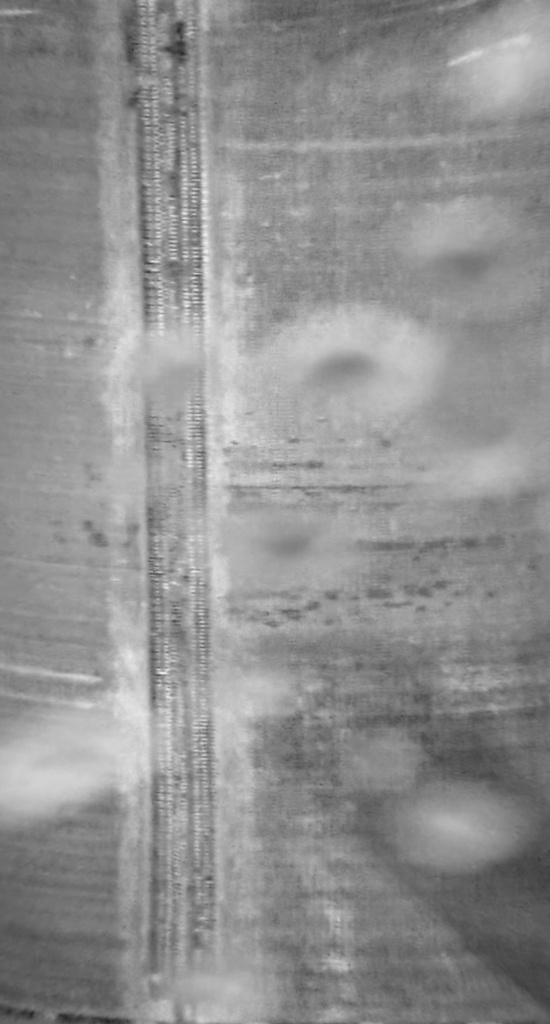splice: (123, 1, 220, 1024)
